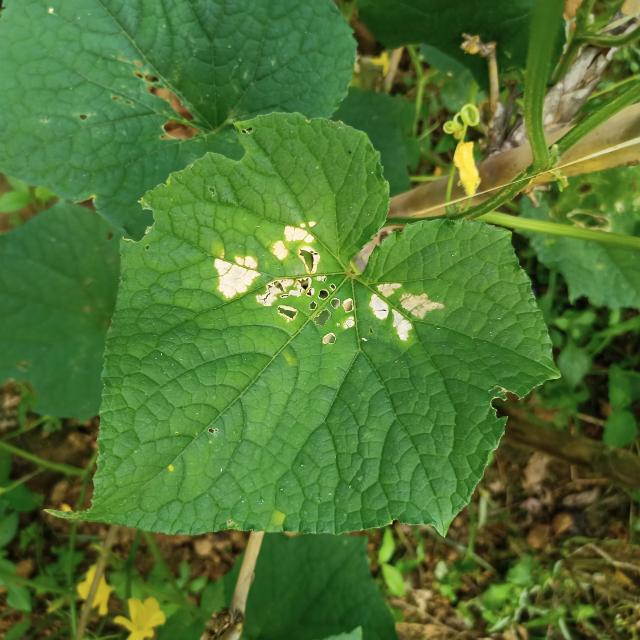disease_cucumber: (206, 215, 359, 349), (364, 266, 445, 342)
